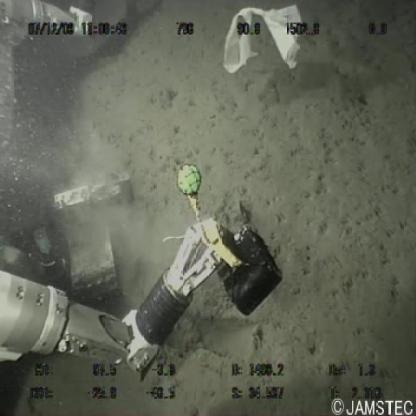Rov: (1, 1, 288, 384)
Rác: (219, 1, 318, 81)
